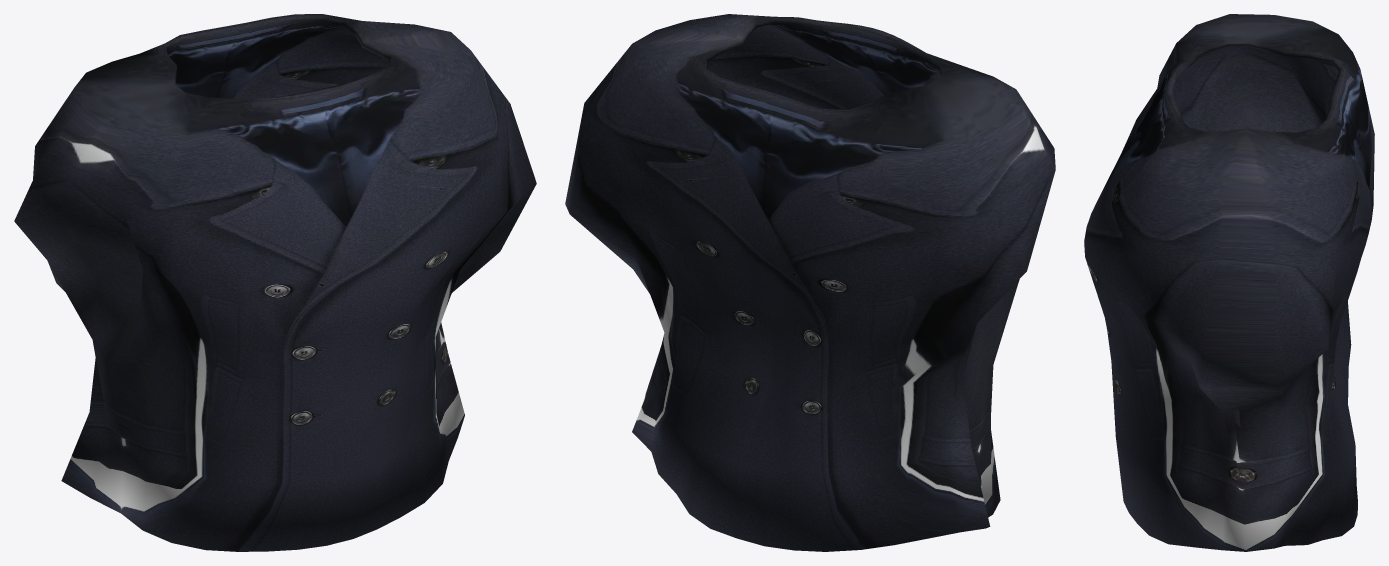
File: 572be950-4db0-4cda-9279-63bee66a3775.glb
The picture shows the model from 3 angles, left to right: view 1: azimuth 30°, elevation 25°; view 2: azimuth 150°, elevation 25°; view 3: azimuth 270°, elevation 25°; orthographic projection. The views are drawn at different scales.
Visible parts, largest first — view 1: garment; view 2: garment; view 3: garment.
Boxes of the visible parts, box(x1,y1,x2,y2) form: garment: box(14, 14, 536, 551); garment: box(565, 14, 1055, 551); garment: box(1084, 14, 1374, 551).
Bounding box in the file's own units: 0.5784 × 0.5125 × 0.3254.
Materials: 1 (1 with a texture image).
